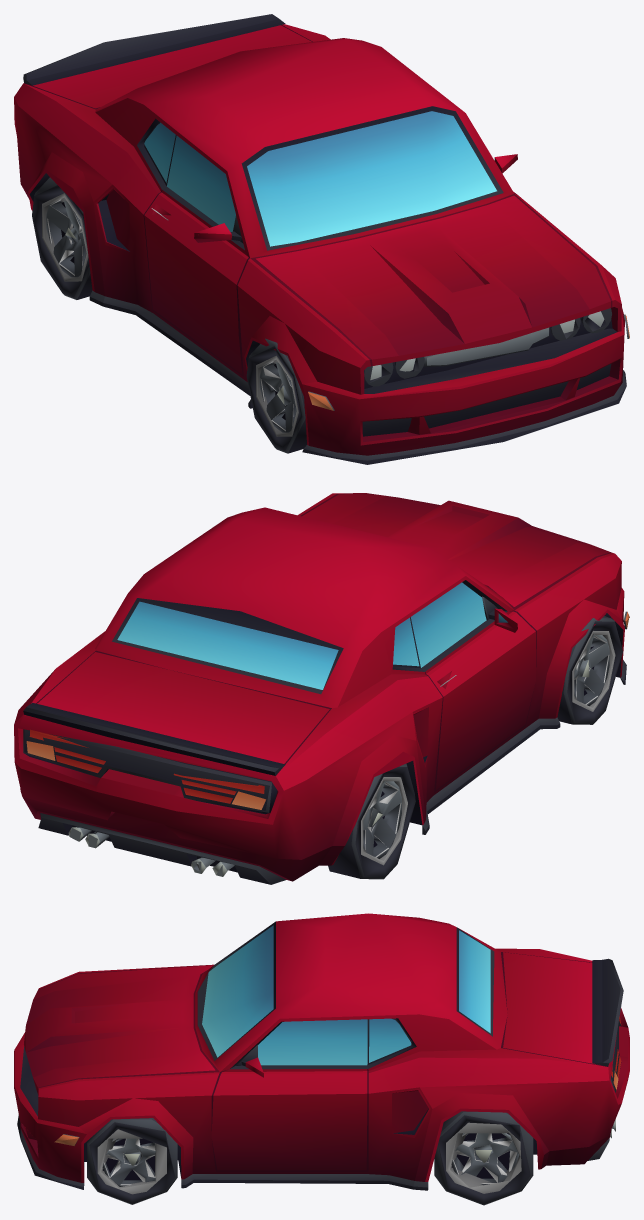
File: hero-71.glb
The picture shows the model from 3 angles, top to bottom: view 1: azimuth 30°, elevation 25°; view 2: azimuth 150°, elevation 25°; view 3: azimuth 270°, elevation 25°; orthographic projection. The views are drawn at different scales.
Visible parts, largest first — view 1: Hyper_GT_1; view 2: Hyper_GT_1; view 3: Hyper_GT_1.
Boxes of the visible parts, left/top/right/bottom form: Hyper_GT_1: left=14, top=14, right=629, bottom=464; Hyper_GT_1: left=14, top=493, right=629, bottom=884; Hyper_GT_1: left=14, top=913, right=629, bottom=1205.
Size of the model in its own units: 2.47 by 1.65 by 4.7.
Materials: 1 (1 with a texture image).
